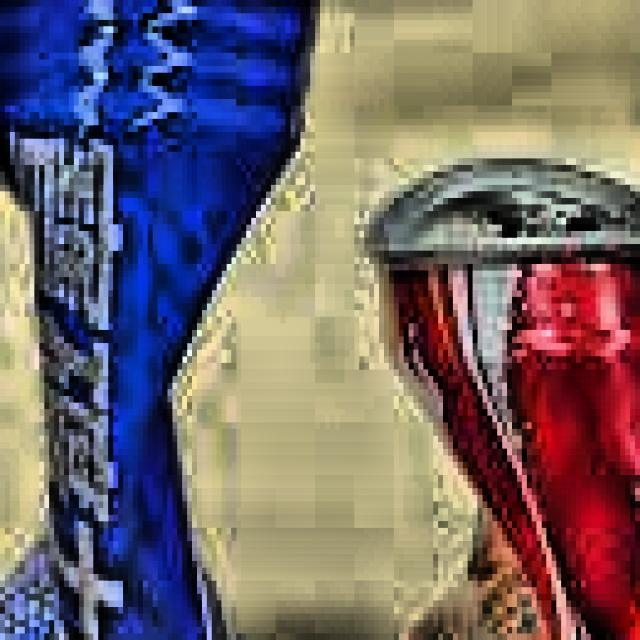metal: (0, 0, 345, 640), (359, 125, 640, 640)
